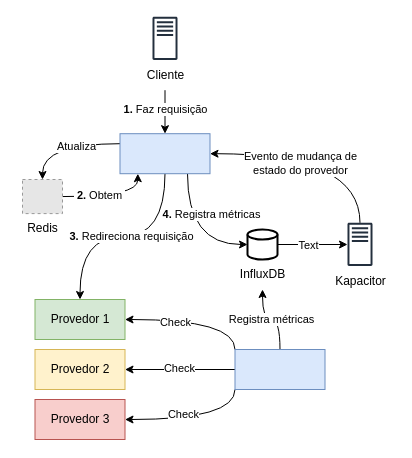
The diagram is 412 pixels wide and 458 high, and some of its shapes have lost their labels. Grey dashed boxes stand in for pictures. Here are the shapes that lost their labels. From the top down, the centre of each, then its label:
the point at 164,153: Broker
the point at 279,369: Healthcheck
